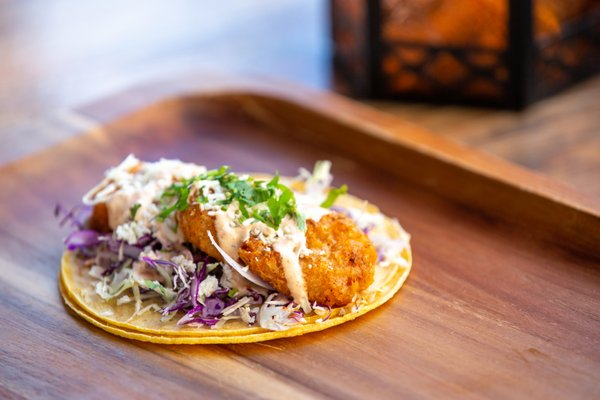sushi: (59, 148, 413, 345)
